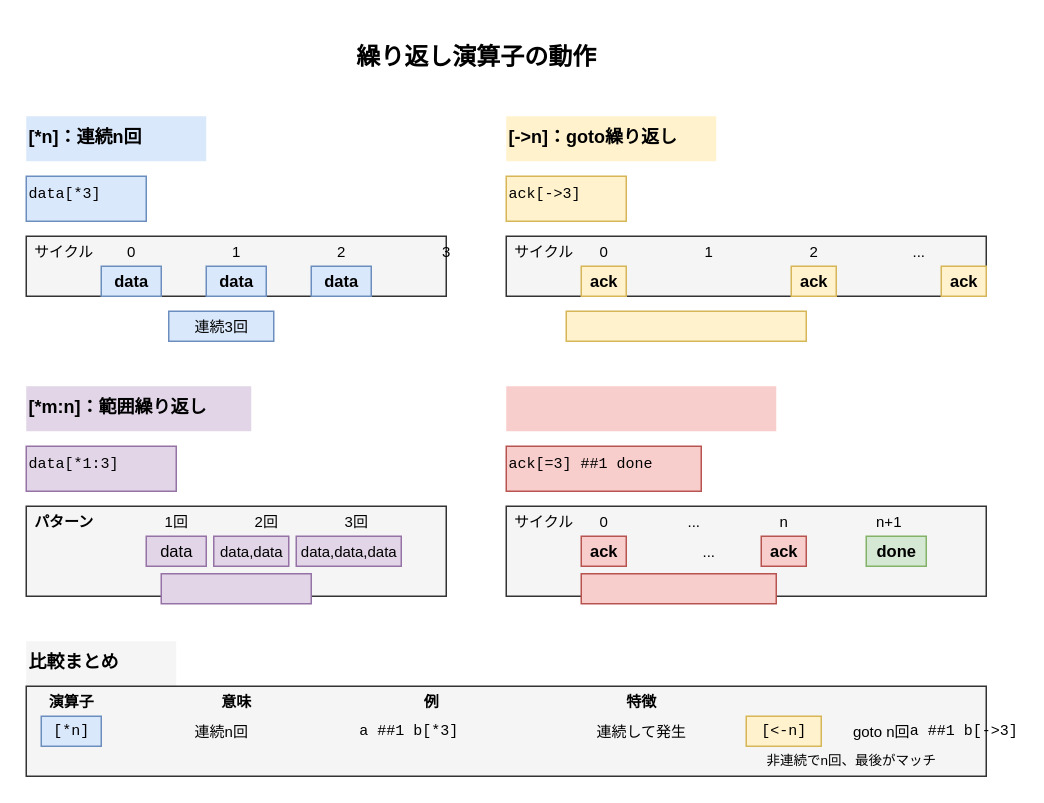
This 1044x803 diagram has some shape labels left out. Each missing label, with the centre of its shape:
[=n]：ノンコンセキュティブ: (x=641, y=408)
ack3回（非連続）後、done: (x=678, y=588)
いずれかでマッチ: (x=235, y=588)
非連続で3回（間が空いても可）: (x=685, y=325)
